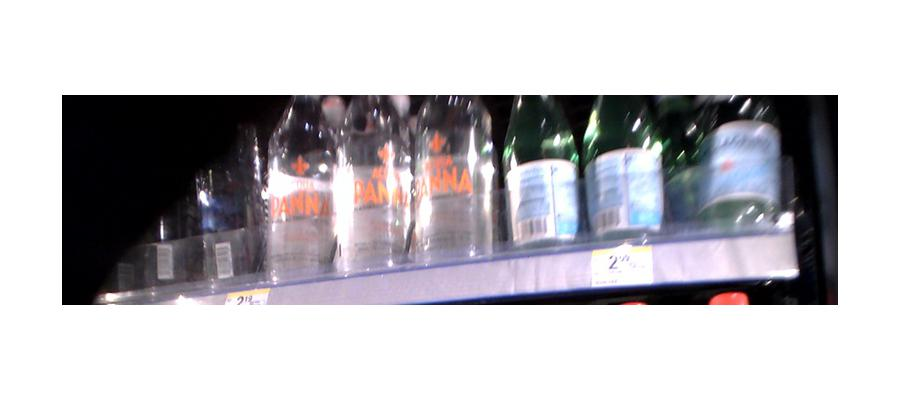bottle: (415, 95, 499, 262), (336, 94, 411, 271), (266, 90, 336, 277), (582, 91, 666, 235), (196, 108, 263, 285), (505, 94, 581, 249), (703, 108, 786, 235), (667, 106, 710, 218)
